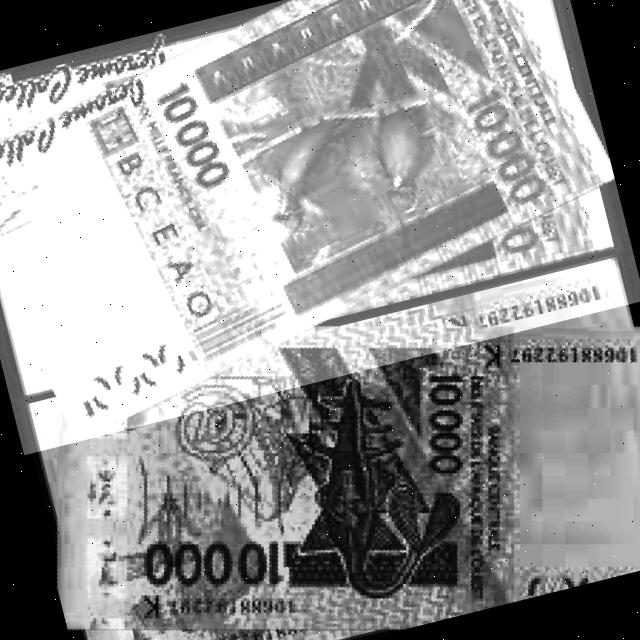niaar junni: (0, 0, 614, 441), (57, 326, 640, 630)
